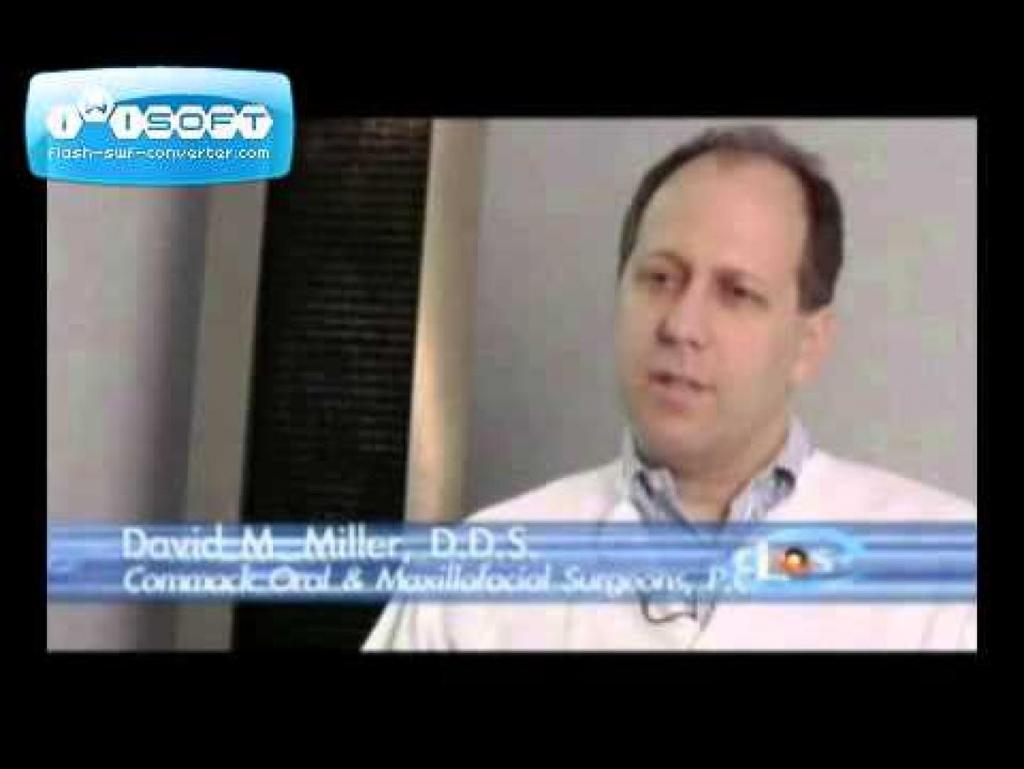face: (616, 180, 790, 452)
